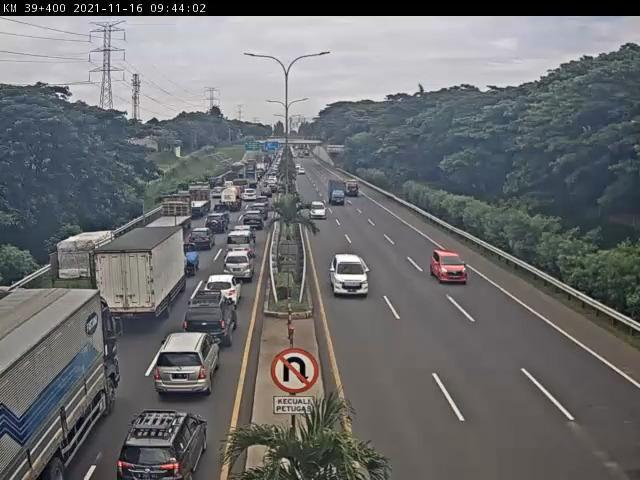car: (115, 412, 206, 480), (154, 333, 222, 398), (185, 292, 241, 347), (327, 253, 372, 299), (430, 250, 469, 286), (206, 277, 245, 306), (228, 230, 259, 260), (224, 253, 255, 282), (188, 227, 212, 252), (205, 216, 225, 236)
truck: (2, 290, 121, 480), (93, 225, 190, 329), (53, 232, 122, 316), (146, 199, 194, 243), (182, 188, 213, 219)
